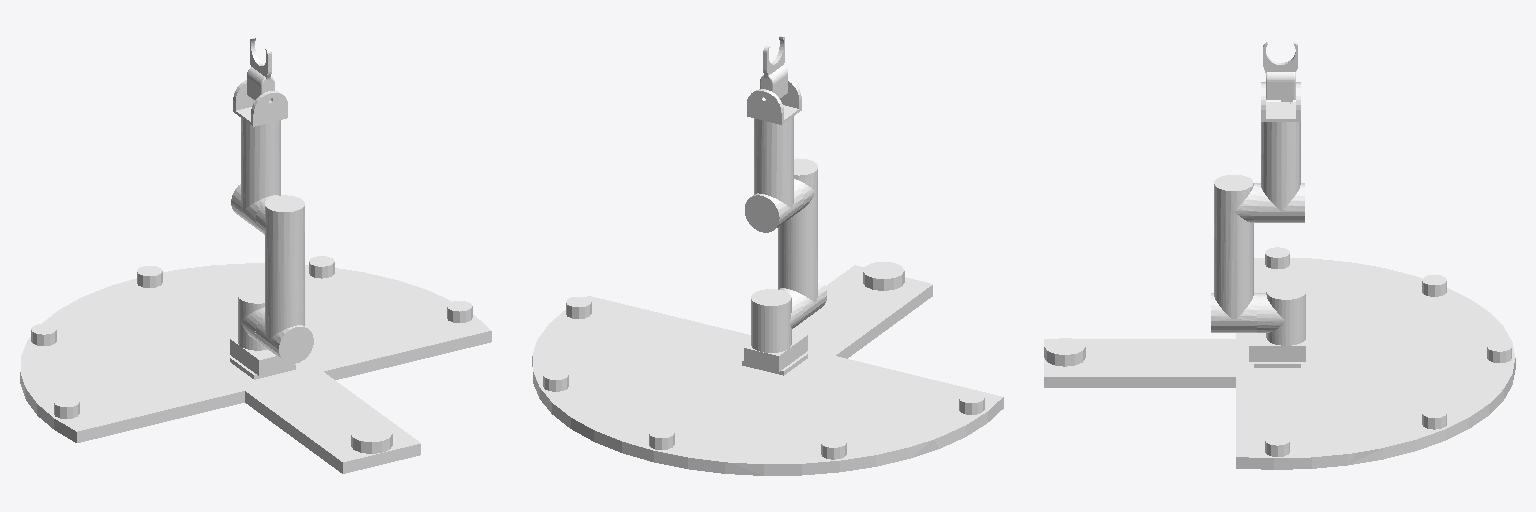
robot.urdf — Assem6:
<?xml version="1.0" encoding="utf-8"?>
<!-- This URDF was automatically created by SolidWorks to URDF Exporter! Originally created by [author] ([email redacted]) 
     Commit Version: 1.6.0-4-g7f85cfe  Build Version: 1.6.7995.38578
     For more information, please see http://wiki.ros.org/sw_urdf_exporter -->
<robot
  name="Assem6">
  <link
    name="base_link">
    <inertial>
      <origin
        xyz="0.0364762317678469 0.0405022880821174 -0.0701927583866328"
        rpy="0 0 0" />
      <mass
        value="52.0571714620044" />
      <inertia
        ixx="5.7499105501999"
        ixy="-1.45037852114768E-14"
        ixz="1.32797091627014E-18"
        iyy="6.76212527113026"
        iyz="0.00998612038496078"
        izz="12.4934134402393" />
    </inertial>
    <visual>
      <origin
        xyz="0 0 0"
        rpy="0 0 0" />
      <geometry>
        <mesh
          filename="package://Assem6/meshes/base_link.STL" />
      </geometry>
      <material
        name="">
        <color
          rgba="1 1 1 1" />
      </material>
    </visual>
    <collision>
      <origin
        xyz="0 0 0"
        rpy="0 0 0" />
      <geometry>
        <mesh
          filename="package://Assem6/meshes/base_link.STL" />
      </geometry>
    </collision>
  </link>
  <link
    name="link1">
    <inertial>
      <origin
        xyz="8.69317530254737E-06 -0.013117555669963 0.0968836990883351"
        rpy="0 0 0" />
      <mass
        value="0.55220141789339" />
      <inertia
        ixx="0.00254125787652368"
        ixy="2.27964754635378E-07"
        ixz="1.19504023573589E-07"
        iyy="0.00232524179834306"
        iyz="-2.9895991129839E-05"
        izz="0.00220431770359684" />
    </inertial>
    <visual>
      <origin
        xyz="0 0 0"
        rpy="0 0 0" />
      <geometry>
        <mesh
          filename="package://Assem6/meshes/link1.STL" />
      </geometry>
      <material
        name="">
        <color
          rgba="1 1 1 1" />
      </material>
    </visual>
    <collision>
      <origin
        xyz="0 0 0"
        rpy="0 0 0" />
      <geometry>
        <mesh
          filename="package://Assem6/meshes/link1.STL" />
      </geometry>
    </collision>
  </link>
  <joint
    name="joint1"
    type="continuous">
    <origin
      xyz="0.033986 -0.081844 0.011835"
      rpy="0 0 0" />
    <parent
      link="base_link" />
    <child
      link="link1" />
    <axis
      xyz="0 0 -1" />
    <limit
      lower="0"
      upper="6.28"
      effort="0"
      velocity="0" />
  </joint>
  <link
    name="link2">
    <inertial>
      <origin
        xyz="-5.05223423605261E-06 0.200565341638655 0.103941707991875"
        rpy="0 0 0" />
      <mass
        value="1.44588397633071" />
      <inertia
        ixx="0.0406605393459049"
        ixy="3.05406450114681E-07"
        ixz="4.4762049332157E-07"
        iyy="0.0055507603961306"
        iyz="0.00148559993678533"
        izz="0.0404243150281363" />
    </inertial>
    <visual>
      <origin
        xyz="0 0 0"
        rpy="0 0 0" />
      <geometry>
        <mesh
          filename="package://Assem6/meshes/link2.STL" />
      </geometry>
      <material
        name="">
        <color
          rgba="1 1 1 1" />
      </material>
    </visual>
    <collision>
      <origin
        xyz="0 0 0"
        rpy="0 0 0" />
      <geometry>
        <mesh
          filename="package://Assem6/meshes/link2.STL" />
      </geometry>
    </collision>
  </link>
  <joint
    name="joint2"
    type="revolute">
    <origin
      xyz="0 -0.0625 0.09129"
      rpy="1.5707963267949 0 0" />
    <parent
      link="link1" />
    <child
      link="link2" />
    <axis
      xyz="0 0 -1" />
    <limit
      lower="0"
      upper="1.57"
      effort="0"
      velocity="0" />
  </joint>
  <link
    name="link3">
    <inertial>
      <origin
        xyz="1.55829146690489E-07 0.191996125533032 0.0738008999598974"
        rpy="0 0 0" />
      <mass
        value="1.6414161965092" />
      <inertia
        ixx="0.0394815130415357"
        ixy="4.17420019419887E-09"
        ixz="-1.6167361324544E-08"
        iyy="0.00643251678314752"
        iyz="5.18708372989459E-18"
        izz="0.0382345589097705" />
    </inertial>
    <visual>
      <origin
        xyz="0 0 0"
        rpy="0 0 0" />
      <geometry>
        <mesh
          filename="package://Assem6/meshes/link3.STL" />
      </geometry>
      <material
        name="">
        <color
          rgba="1 1 1 1" />
      </material>
    </visual>
    <collision>
      <origin
        xyz="0 0 0"
        rpy="0 0 0" />
      <geometry>
        <mesh
          filename="package://Assem6/meshes/link3.STL" />
      </geometry>
    </collision>
  </link>
  <joint
    name="joint3"
    type="revolute">
    <origin
      xyz="0 0.378542203070813 0.0288"
      rpy="-3.14159265358979 0 3.14159265358979" />
    <parent
      link="link2" />
    <child
      link="link3" />
    <axis
      xyz="0 0 -1" />
    <limit
      lower="-1.57"
      upper="0"
      effort="0"
      velocity="0" />
  </joint>
  <link
    name="link4">
    <inertial>
      <origin
        xyz="-1.62231890976638E-08 0.0468478893722029 -0.0399806542724968"
        rpy="0 0 0" />
      <mass
        value="0.327437027139841" />
      <inertia
        ixx="0.000698216473077601"
        ixy="1.91298217640004E-11"
        ixz="1.58559506384301E-11"
        iyy="0.000366886774334359"
        iyz="-1.66508577977897E-07"
        izz="0.000445745149597185" />
    </inertial>
    <visual>
      <origin
        xyz="0 0 0"
        rpy="0 0 0" />
      <geometry>
        <mesh
          filename="package://Assem6/meshes/link4.STL" />
      </geometry>
      <material
        name="">
        <color
          rgba="1 1 1 1" />
      </material>
    </visual>
    <collision>
      <origin
        xyz="0 0 0"
        rpy="0 0 0" />
      <geometry>
        <mesh
          filename="package://Assem6/meshes/link4.STL" />
      </geometry>
    </collision>
  </link>
  <joint
    name="joint4"
    type="continuous">
    <origin
      xyz="0 0.39129 0.1158"
      rpy="0 0 0" />
    <parent
      link="link3" />
    <child
      link="link4" />
    <axis
      xyz="0 0 -1" />
    <limit
      lower="0"
      upper="3.14"
      effort="0"
      velocity="0" />
  </joint>
</robot>

--- What the picture shows (computed from the rendered views, not written in the file) ---
3 views of the same robot in one strip: view 1: azimuth 30°, elevation 25°; view 2: azimuth 150°, elevation 25°; view 3: azimuth 270°, elevation 25° (orthographic).
Model Assem6 with 5 links and 4 joints (2 revolute, 2 continuous), rooted at base_link, posed every joint at zero.
Links seen in each view (by area): view 1: base_link, link2, link3, link1, link4; view 2: base_link, link3, link2, link1, link4; view 3: base_link, link2, link3, link1, link4.
Boxes of the visible links, x1,y1,x2,y2 form: base_link: (20, 256, 491, 473); link2: (255, 195, 313, 363); link3: (231, 80, 287, 228); link1: (238, 287, 267, 350); link4: (247, 38, 274, 100); base_link: (532, 262, 1003, 475); link3: (745, 78, 803, 232); link2: (778, 158, 826, 322); link1: (751, 289, 803, 352); link4: (760, 36, 787, 98); base_link: (1044, 247, 1515, 469); link2: (1211, 175, 1256, 332); link3: (1257, 82, 1304, 222); link1: (1257, 283, 1305, 345); link4: (1263, 42, 1297, 103).
Bounding box of the posed robot: 1.5 × 1.48 × 1.13 m (x, y, z).
Meshes: 5 distinct files referenced, 5 mesh visuals loaded (5 binary STL).